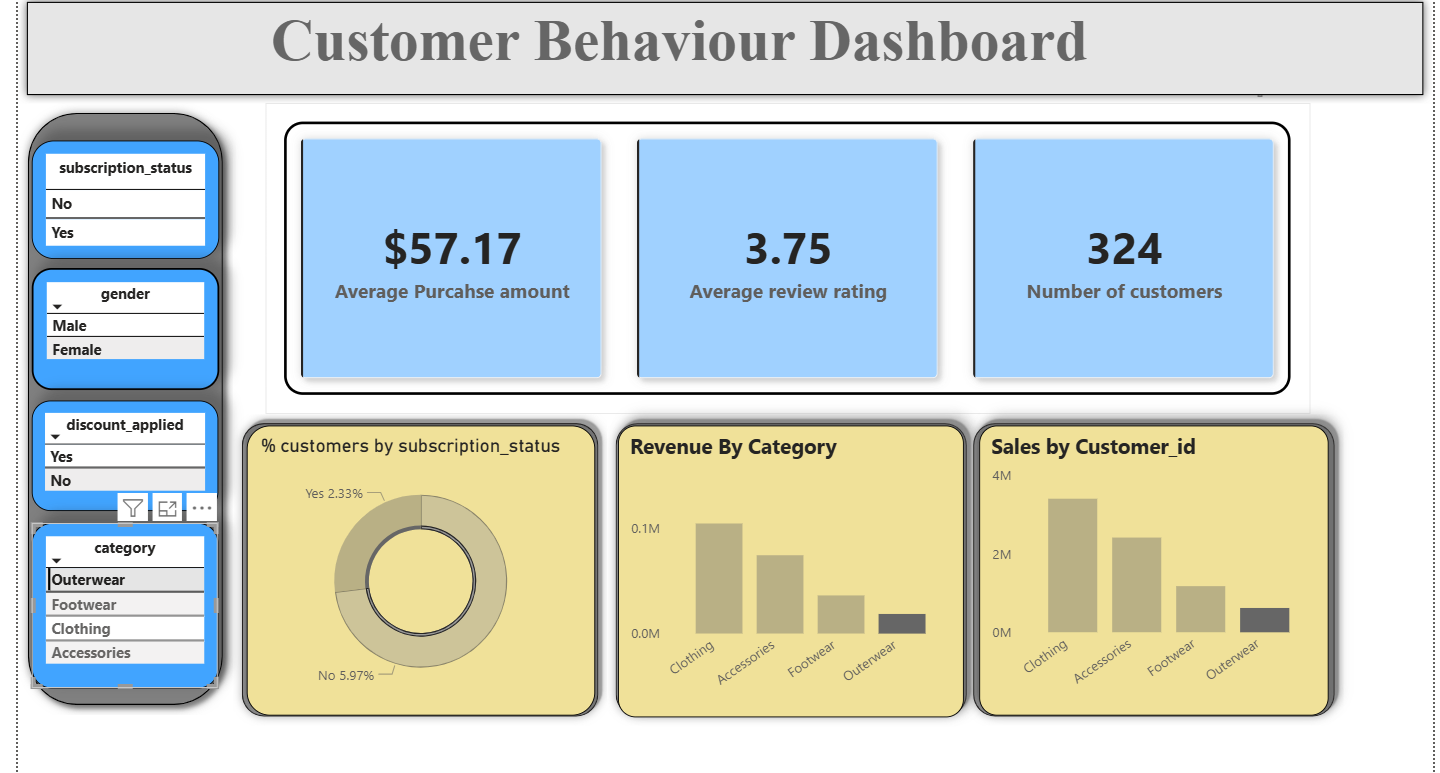

Layout of this report page (visuals, bound fields, positions):
{"tool":"powerbi","page":{"name":"Page 1","canvas":[1280,720],"ordinal":0},"visuals":[{"type":"cardVisual","fields":{"Data":["mydatabase mytable.Average Purcahse amount","mydatabase mytable.Average review rating","mydatabase mytable.Number of customers"]},"box":[223.8,99.9,945.7,281.6],"z":0},{"type":"shape","box":[0,0,1279.2,100.4],"z":1000},{"type":"textbox","box":[224.4,7.9,787.2,84.6],"z":2000},{"type":"shape","box":[194.2,381.4,338.4,281.4],"z":3000},{"type":"donutChart","title":"% customers by subscription_status","fields":{"Category":["mydatabase mytable.subscription_status"],"Y":["Count(mydatabase mytable.customer_id)"]},"box":[207,390.7,315.1,262.8],"z":4000},{"type":"shape","box":[532.6,381.4,333.7,281.4],"z":5000},{"type":"shape","box":[855.8,381.4,343,281.4],"z":6000},{"type":"clusteredColumnChart","title":"Revenue By Category","fields":{"Category":["mydatabase mytable.category"],"Y":["Sum(mydatabase mytable.purchase_amount)"]},"box":[543,390.7,312.8,264],"z":7000},{"type":"clusteredColumnChart","title":"Sales by Customer_id","fields":{"Category":["mydatabase mytable.category"],"Y":["Sum(mydatabase mytable.customer_id)"]},"box":[869.8,390.7,316.3,262.8],"z":8000},{"type":"shape","box":[0,100,194.2,553.5],"z":8001},{"type":"tableEx","fields":{"Values":["mydatabase mytable.subscription_status"]},"box":[12,133.6,169.7,107.1],"z":8002},{"type":"tableEx","fields":{"Values":["mydatabase mytable.gender"]},"box":[12,249.1,169.7,110.7],"z":8003},{"type":"tableEx","fields":{"Values":["mydatabase mytable.category"]},"box":[12,478.9,168.5,149.2],"z":8004},{"type":"tableEx","fields":{"Values":["mydatabase mytable.discount_applied"]},"box":[12,368.2,168.5,99.9],"z":8005}]}

Visuals, with their boxes in screenshot pixels (x1, y1, x2, y2):
cardVisual - mydatabase mytable.Average Purcahse amount x mydatabase mytable.Average review rating: box=[268, 98, 1305, 407]
shape: box=[22, 0, 1426, 99]
textbox: box=[269, 0, 1132, 90]
shape: box=[236, 407, 607, 716]
"% customers by subscription_status" donutChart: box=[250, 417, 595, 706]
shape: box=[607, 407, 973, 716]
shape: box=[961, 407, 1338, 716]
"Revenue By Category" clusteredColumnChart: box=[618, 417, 961, 707]
"Sales by Customer_id" clusteredColumnChart: box=[977, 417, 1324, 706]
shape: box=[22, 98, 236, 706]
tableEx - mydatabase mytable.subscription_status: box=[36, 135, 222, 253]
tableEx - mydatabase mytable.gender: box=[36, 262, 222, 383]
tableEx - mydatabase mytable.category: box=[36, 514, 221, 678]
tableEx - mydatabase mytable.discount_applied: box=[36, 393, 221, 502]
